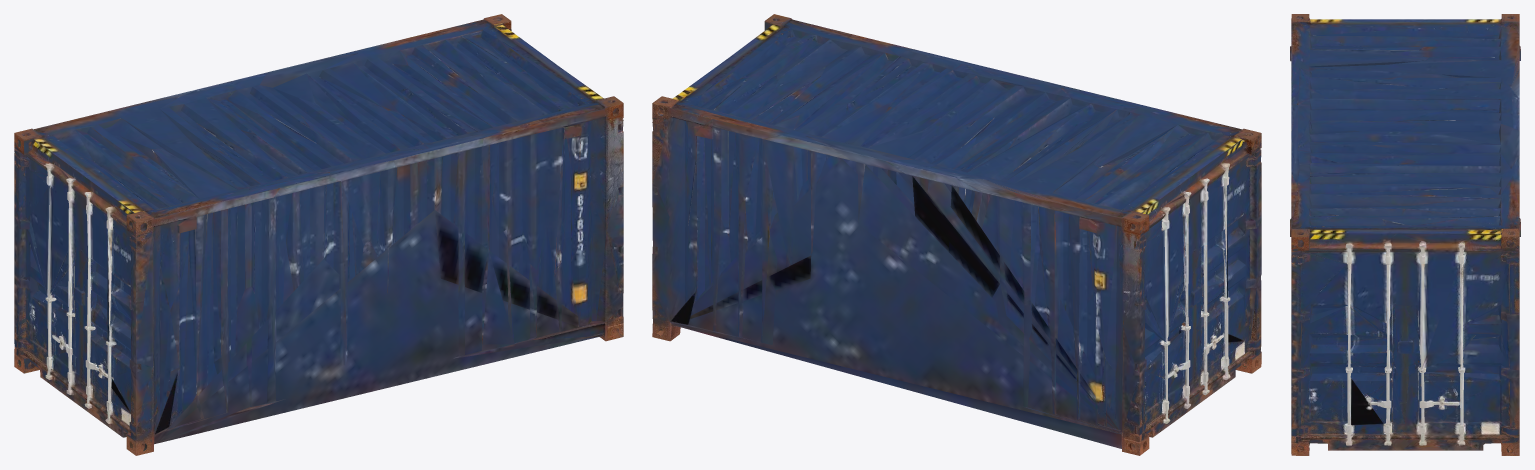
Rendered from container_blue.glb.
3 views of the same model, side by side, from view 1: azimuth 30°, elevation 25°; view 2: azimuth 150°, elevation 25°; view 3: azimuth 270°, elevation 25° (orthographic). The views are drawn at different scales.
Parts seen in each view (by area): view 1: Mesh_0; view 2: Mesh_0; view 3: Mesh_0.
Boxes of the visible parts, x1,y1,x2,y2 form: Mesh_0: [14, 14, 623, 455]; Mesh_0: [652, 14, 1261, 455]; Mesh_0: [1290, 14, 1520, 455].
Size of the model in its own units: 1.9 by 0.8716 by 0.8312.
Materials: 1 (1 with a texture image).
